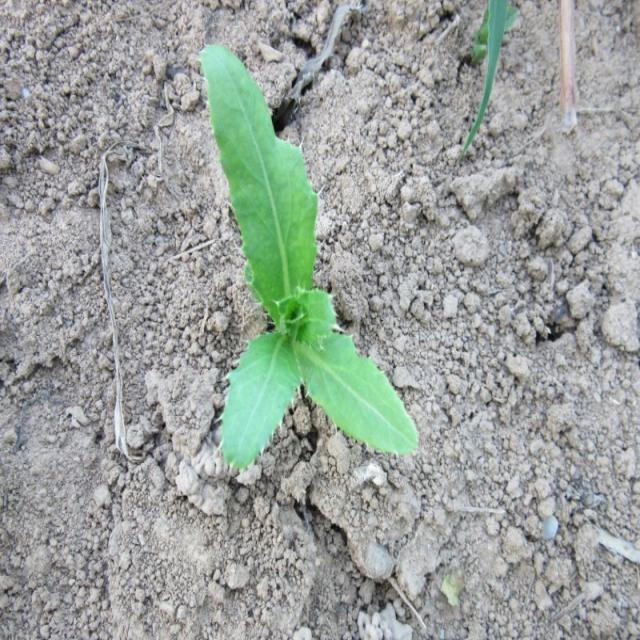cs: (201, 44, 421, 473)
